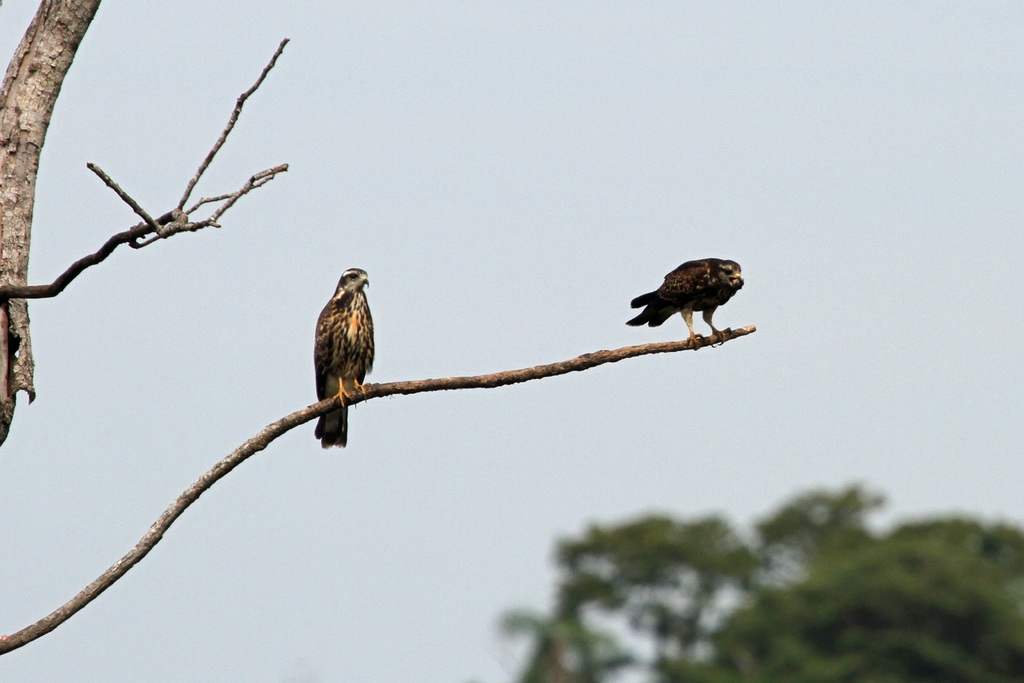Tree: (498, 483, 1023, 682)
